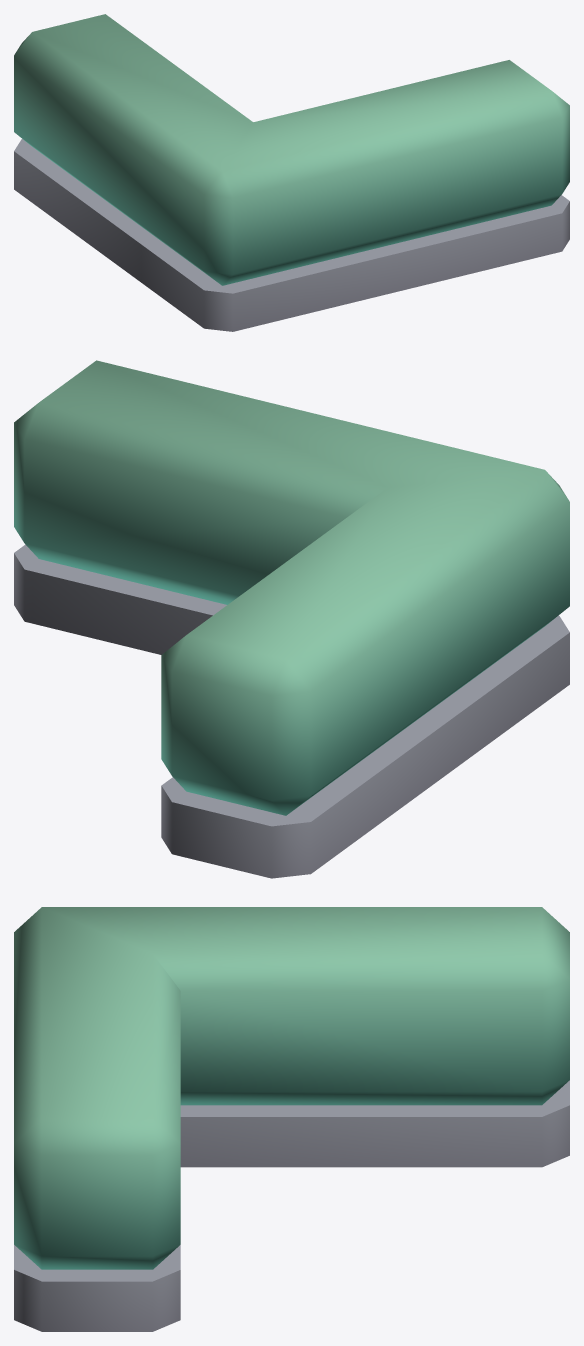
Rendered from hedge_corner.glb.
3 renders of one model, top to bottom at view 1: azimuth 30°, elevation 25°; view 2: azimuth 150°, elevation 25°; view 3: azimuth 270°, elevation 25°, orthographic. The views are drawn at different scales.
Parts seen in each view (by area): view 1: hedge_corner; view 2: hedge_corner; view 3: hedge_corner.
Boxes of the visible parts, left/top/right/bottom form: hedge_corner: left=14, top=14, right=569, bottom=331; hedge_corner: left=14, top=360, right=569, bottom=878; hedge_corner: left=14, top=907, right=569, bottom=1331.
Bounding box in the file's own units: 1 × 0.4 × 1.
